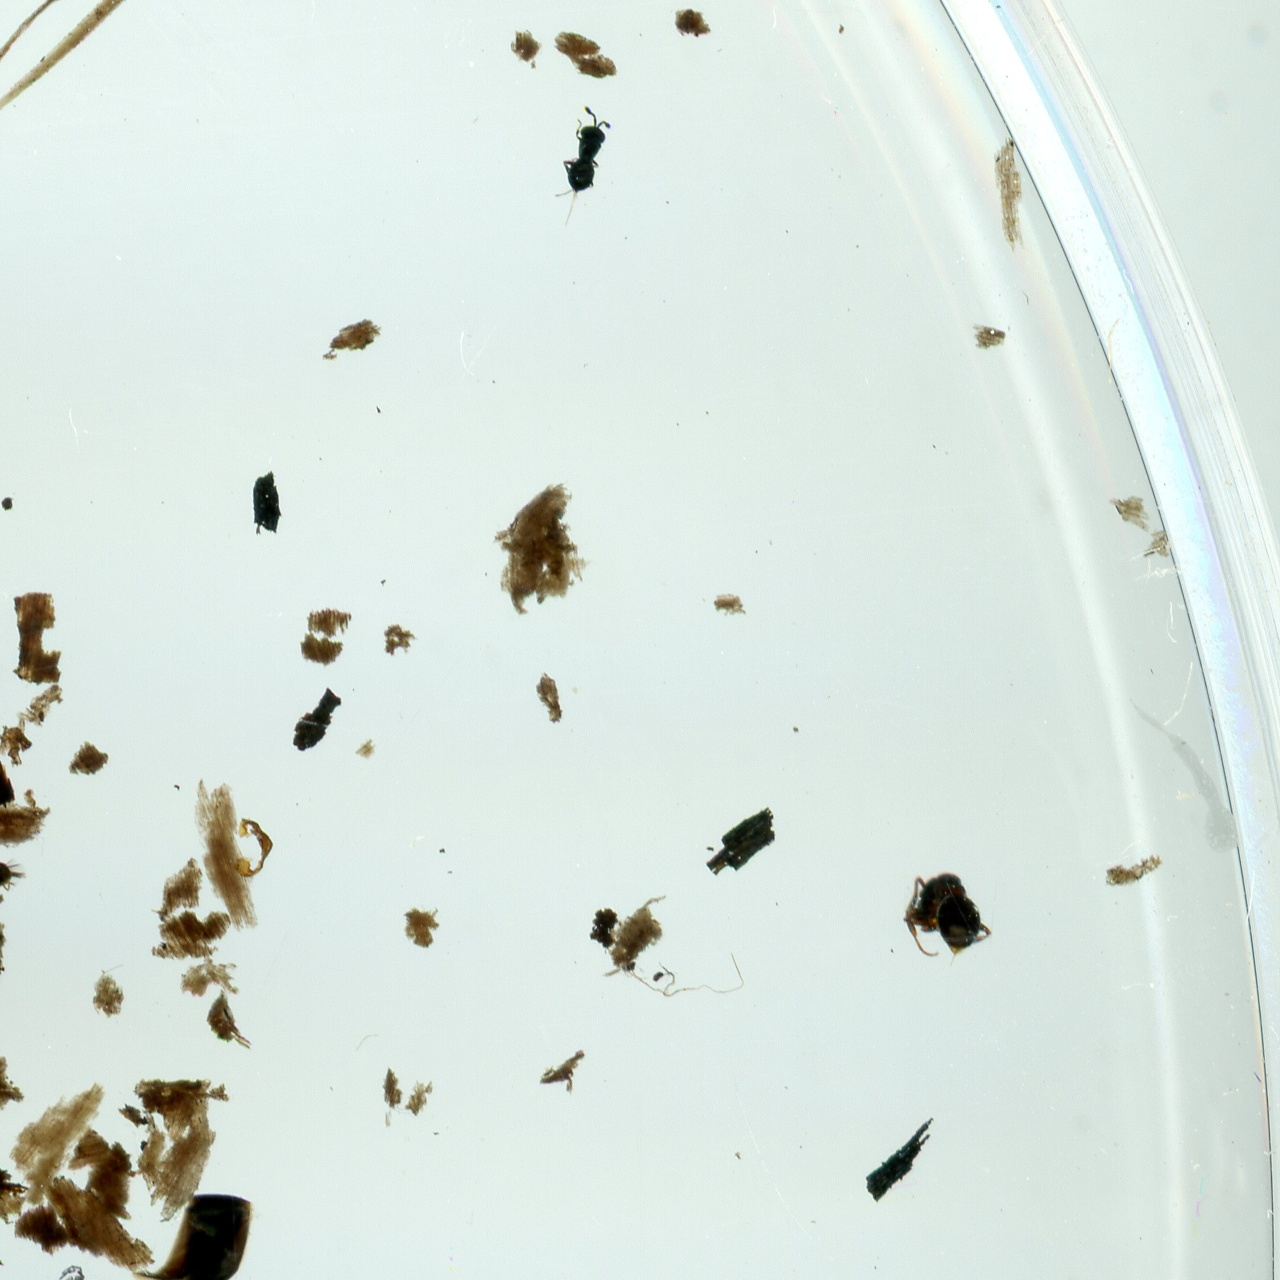arthropod: (541, 98, 625, 240), (897, 866, 998, 961), (2, 1252, 105, 1280), (0, 851, 31, 904)
